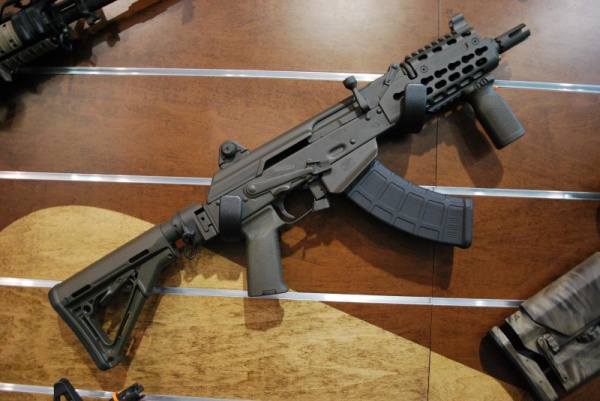ak47: (55, 18, 527, 366)
